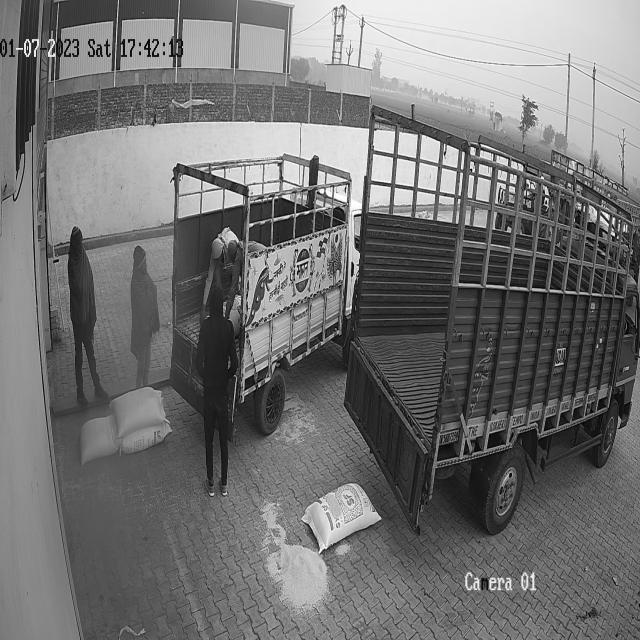sack: (302, 482, 382, 553), (111, 386, 165, 436), (78, 414, 118, 464), (122, 423, 171, 452)
